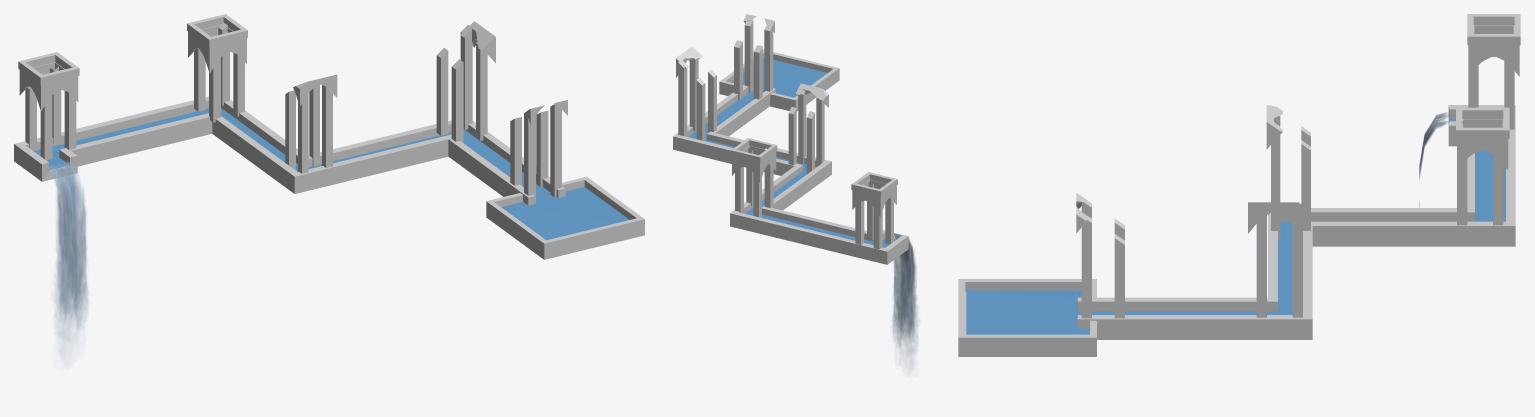
3 views of the same model, side by side, from view 1: azimuth 30°, elevation 25°; view 2: azimuth 150°, elevation 25°; view 3: azimuth 270°, elevation 25° (orthographic). The views are drawn at different scales.
Visible parts, largest first — view 1: waterfall_png_by_dbszabo1-d50y15c, waterfall_png_by_dbszabo1-d50y15c_waterfall_png_by_dbszabo1-; view 2: waterfall_png_by_dbszabo1-d50y15c, waterfall_png_by_dbszabo1-d50y15c_waterfall_png_by_dbszabo1-; view 3: waterfall_png_by_dbszabo1-d50y15c.
Part boxes in pixels (bbox=[...]): waterfall_png_by_dbszabo1-d50y15c: bbox=[14, 14, 644, 259]; waterfall_png_by_dbszabo1-d50y15c_waterfall_png_by_dbszabo1-: bbox=[49, 160, 88, 358]; waterfall_png_by_dbszabo1-d50y15c: bbox=[673, 14, 908, 264]; waterfall_png_by_dbszabo1-d50y15c_waterfall_png_by_dbszabo1-: bbox=[892, 233, 918, 368]; waterfall_png_by_dbszabo1-d50y15c: bbox=[958, 14, 1520, 356].
Size of the model in its own units: 2216 by 1662 by 2188.
3 materials, 1 textured.
